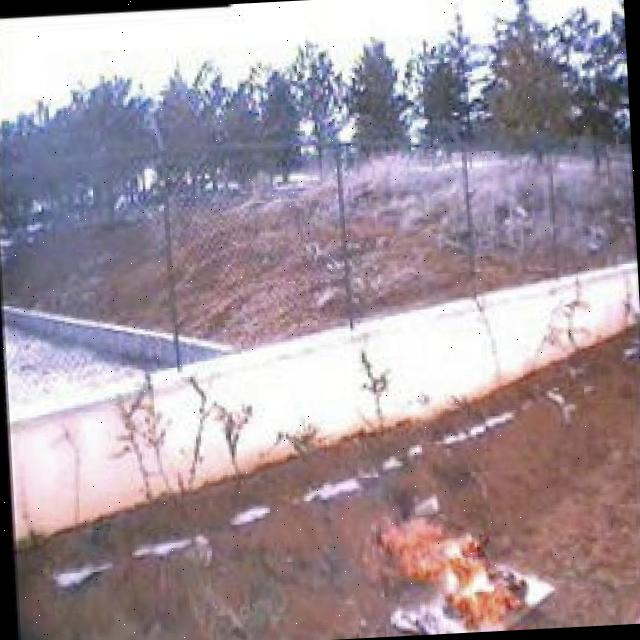fire: (372, 504, 532, 638)
